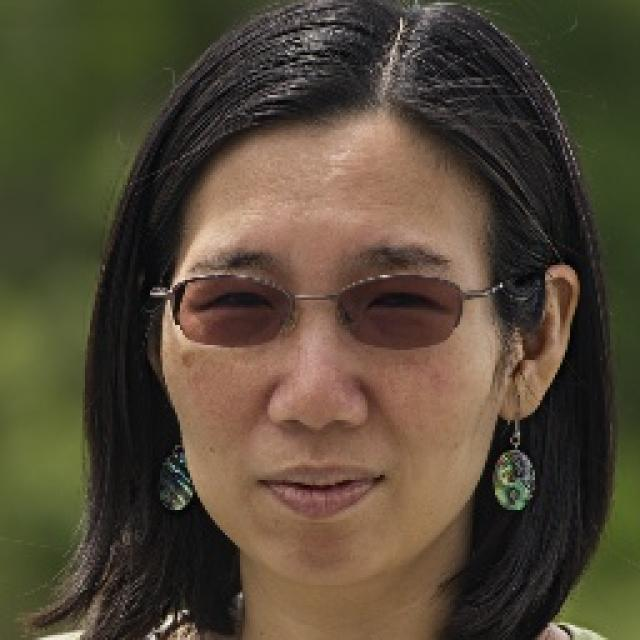earlobe: (496, 368, 538, 424)
eye: (363, 292, 438, 316), (195, 292, 268, 312)
nose: (266, 404, 370, 472)
wholeear: (496, 264, 579, 422)
